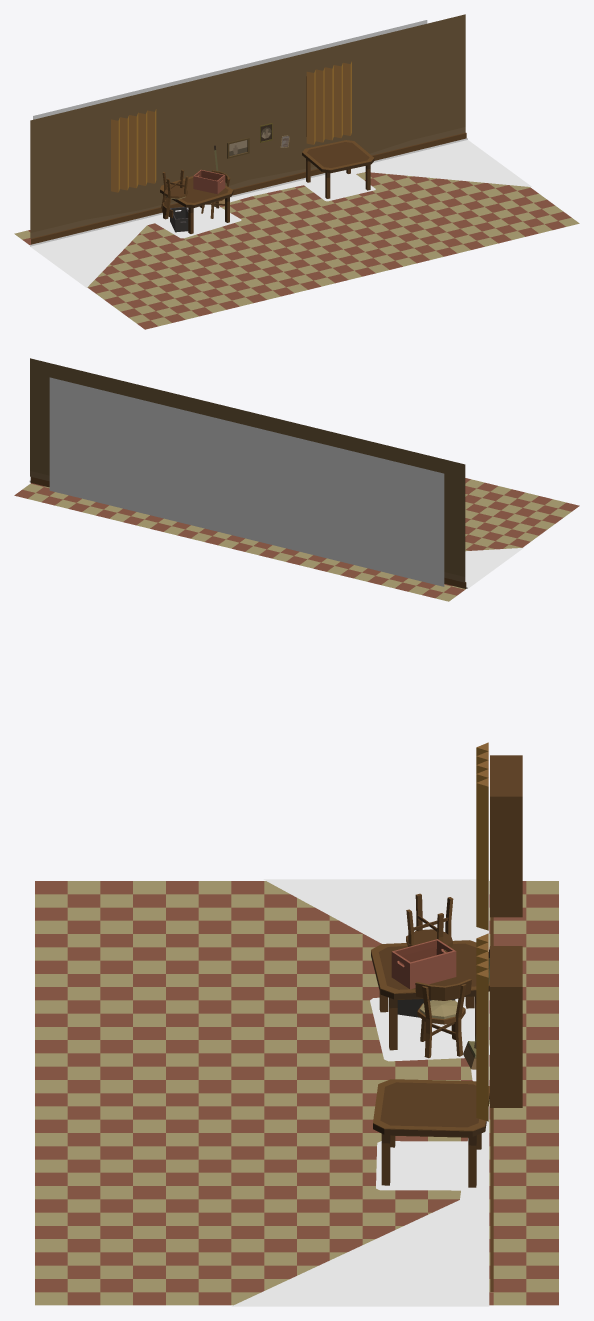
File: Background_BarDay01.fbx
3 views of the same model, one above another, from view 1: azimuth 30°, elevation 25°; view 2: azimuth 150°, elevation 25°; view 3: azimuth 270°, elevation 25° (orthographic). The views are drawn at different scales.
Visible parts, largest first — view 1: Mesh_BarWall01, Mesh_BarGround01, Mesh_BarShadows, Mesh_BarWindow, Mesh_BarWindow.001, Mesh_BarTableBackground01.001, Mesh_Background, Mesh_BarTableBackground01, Mesh_BarChairBackground01.001, Mesh_BarBox01, Mesh_BarBox02; view 2: Mesh_Background, Mesh_BarGround01, Mesh_BarWall01, Mesh_BarShadows; view 3: Mesh_BarGround01, Mesh_BarShadows, Mesh_BarWall01, Mesh_BarTableBackground01.001, Mesh_BarTableBackground01, Mesh_BarChairBackground01, Mesh_BarBox01, Mesh_BarWindow, Mesh_BarWindow.001, Mesh_BarChairBackground01.001.
Boxes of the visible parts, left/top/right/bottom form: Mesh_BarWall01: left=30, top=14, right=466, bottom=244; Mesh_BarGround01: left=14, top=172, right=579, bottom=329; Mesh_BarShadows: left=30, top=138, right=532, bottom=287; Mesh_BarWindow: left=306, top=61, right=351, bottom=144; Mesh_BarWindow.001: left=111, top=109, right=156, bottom=192; Mesh_BarTableBackground01.001: left=302, top=140, right=374, bottom=198; Mesh_Background: left=33, top=20, right=427, bottom=119; Mesh_BarTableBackground01: left=160, top=175, right=233, bottom=233; Mesh_BarChairBackground01.001: left=161, top=169, right=188, bottom=217; Mesh_BarBox01: left=193, top=169, right=225, bottom=194; Mesh_BarBox02: left=170, top=207, right=188, bottom=232; Mesh_Background: left=49, top=377, right=444, bottom=586; Mesh_BarGround01: left=14, top=478, right=579, bottom=601; Mesh_BarWall01: left=30, top=358, right=466, bottom=588; Mesh_BarShadows: left=29, top=480, right=523, bottom=588; Mesh_BarGround01: left=35, top=881, right=558, bottom=1305; Mesh_BarShadows: left=231, top=879, right=489, bottom=1306; Mesh_BarWall01: left=490, top=755, right=522, bottom=1291; Mesh_BarTableBackground01.001: left=373, top=1079, right=489, bottom=1187; Mesh_BarTableBackground01: left=371, top=940, right=489, bottom=1050; Mesh_BarChairBackground01: left=415, top=979, right=471, bottom=1058; Mesh_BarBox01: left=391, top=939, right=456, bottom=989; Mesh_BarWindow: left=476, top=933, right=488, bottom=1121; Mesh_BarWindow.001: left=476, top=742, right=488, bottom=930; Mesh_BarChairBackground01.001: left=406, top=893, right=453, bottom=951.
Bounding box in the file's own units: 133 × 68.74 × 36.44.
